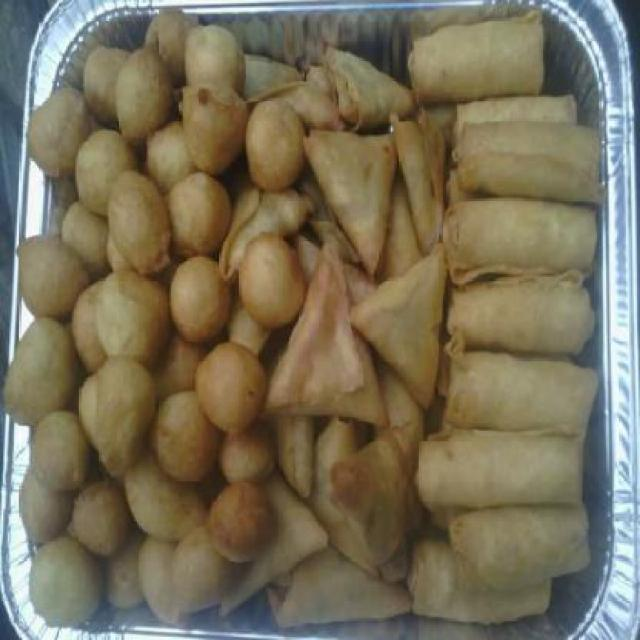samosa: (268, 27, 442, 618)
spring rolls: (406, 8, 609, 627)
